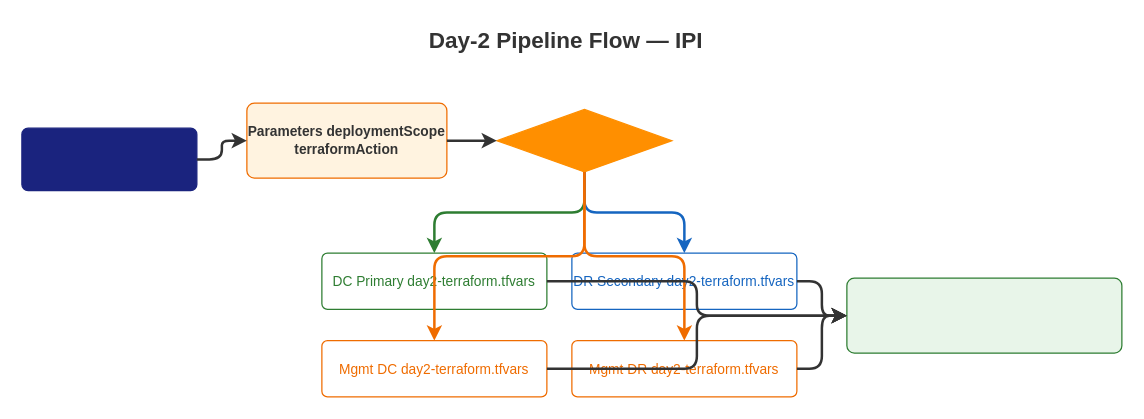
Image size: 1144x419. Some labels were removed from this diagram. Each missing label, with the centre of its shape:
"Day-2 Pipeline Trigger" belongs at pixel 109 159.
"Scope Selection" belongs at pixel 584 140.
"terraform init terraform apply -var-file=day2-terraform.tfvars" belongs at pixel 984 315.
